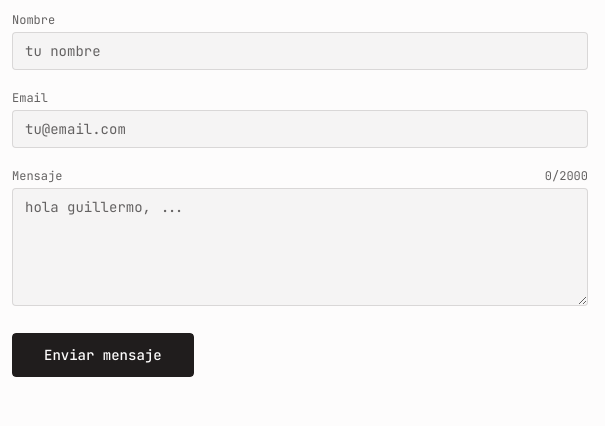
Test case: ContactForm › muestra feedback de error cuando el envío falla
This screenshot has width=605, height=426.
In the field labelled "Nombre": (300, 51) [12,32,588,70], type "Ana"
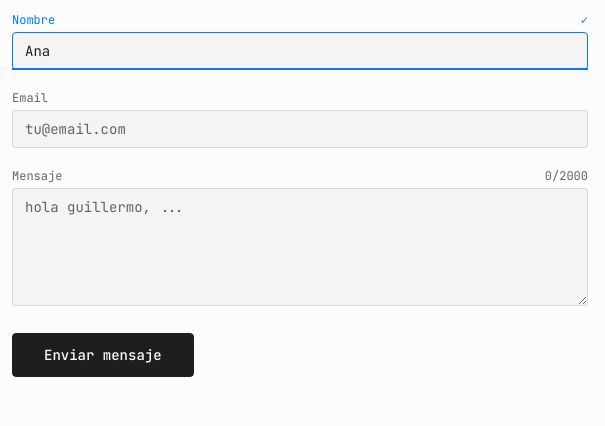
In the field labelled "Email": (300, 129) [12,110,588,148], type "ana@test.com"
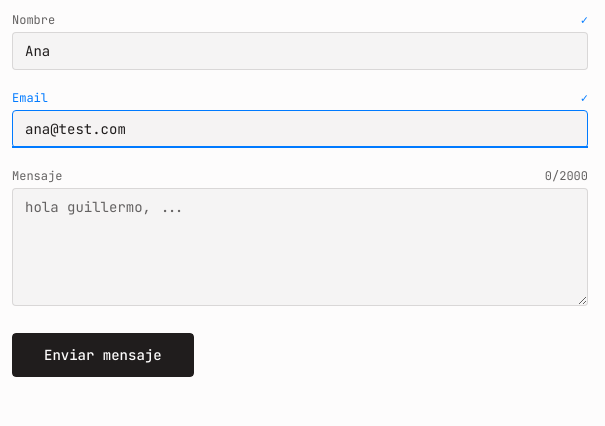
In the text box labelled "Mensaje": (300, 247) [12,188,588,306], type "Hola, te escribo por una oportunidad laboral"
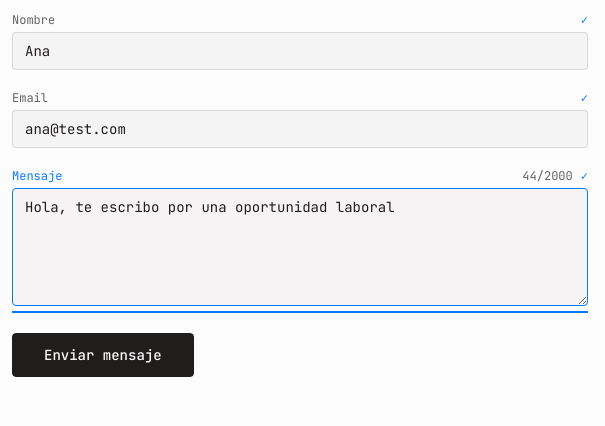
Click the button "Enviar mensaje": (103, 355) [12,333,194,377]
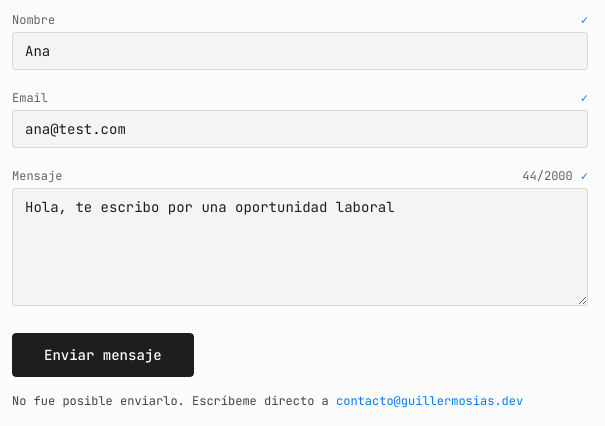
Expected: the message "No fue posible enviarlo. Escríbeme directo a contacto@guillermosias.dev" is shown, [12,393,523,409]
